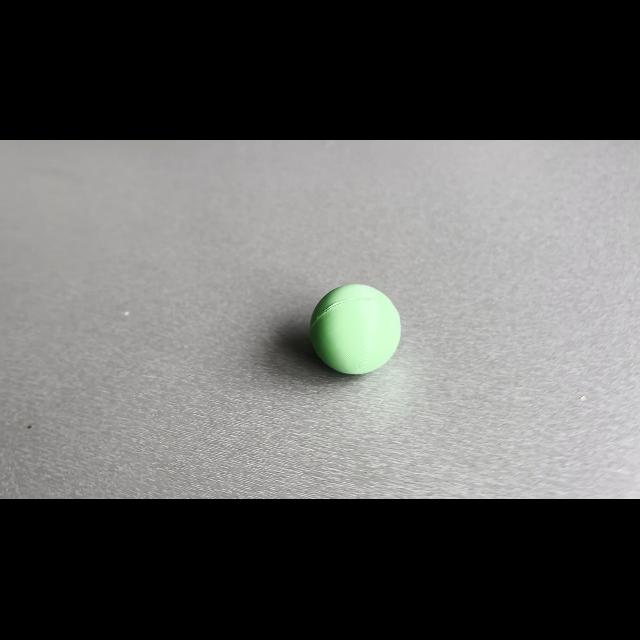objects: (300, 272, 408, 380)
